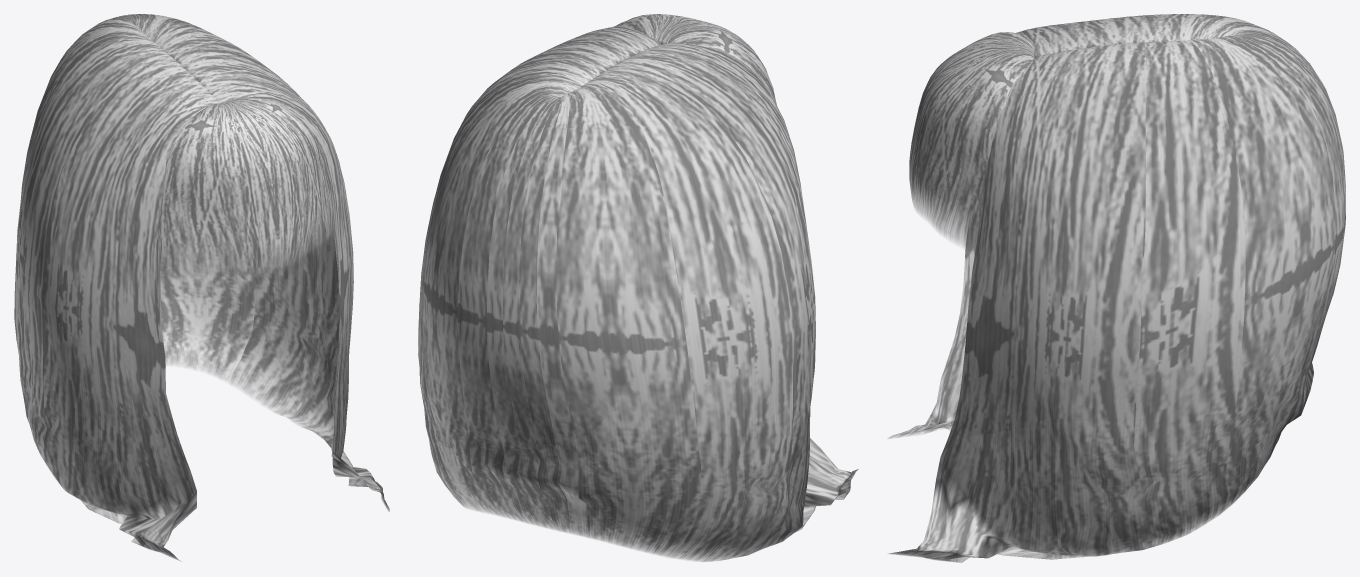
File: daz_hair_inverted_bob_bangs.glb
3 views of the same model, side by side, from view 1: azimuth 30°, elevation 25°; view 2: azimuth 150°, elevation 25°; view 3: azimuth 270°, elevation 25° (orthographic). The views are drawn at different scales.
Visible parts, largest first — view 1: daz_hair_inverted_bob_bangs; view 2: daz_hair_inverted_bob_bangs; view 3: daz_hair_inverted_bob_bangs.
Boxes of the visible parts, bbox=[...] form: daz_hair_inverted_bob_bangs: bbox=[14, 14, 389, 561]; daz_hair_inverted_bob_bangs: bbox=[418, 14, 858, 561]; daz_hair_inverted_bob_bangs: bbox=[887, 14, 1345, 562].
Size of the model in its own units: 0.1793 by 0.2358 by 0.211.
Materials: 1 (1 with a texture image).
